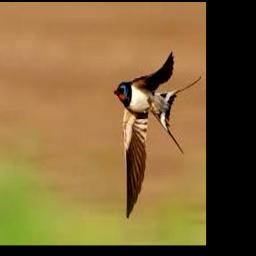Swallow: (113, 51, 201, 219)
